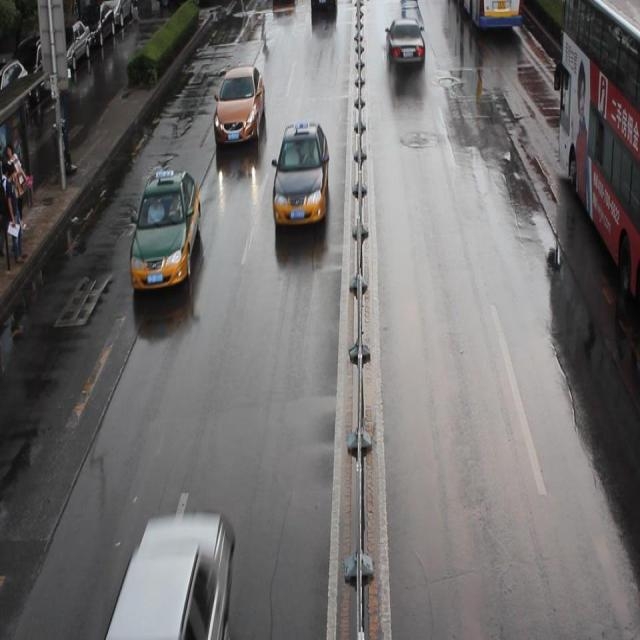car: (106, 508, 234, 640), (128, 169, 202, 287), (272, 120, 330, 225), (212, 67, 266, 144), (385, 18, 426, 67), (309, 1, 336, 14), (272, 1, 294, 12)
van: (556, 1, 640, 310), (453, 1, 520, 27)
